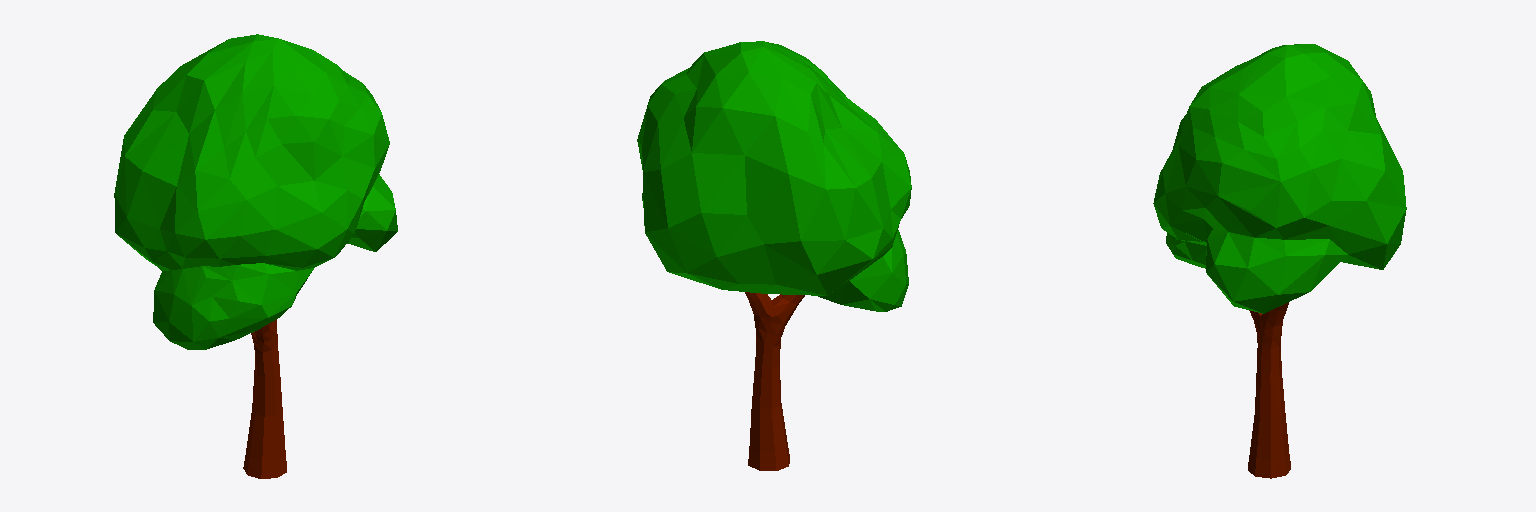
3 views of the same model, side by side, from view 1: azimuth 30°, elevation 25°; view 2: azimuth 150°, elevation 25°; view 3: azimuth 270°, elevation 25° (orthographic).
Parts seen in each view (by area): view 1: tree3_Icosphere.005; view 2: tree3_Icosphere.005; view 3: tree3_Icosphere.005.
Boxes of the visible parts, x1=… form: tree3_Icosphere.005: x1=114, y1=34, x2=397, y2=478; tree3_Icosphere.005: x1=637, y1=41, x2=911, y2=470; tree3_Icosphere.005: x1=1153, y1=44, x2=1406, y2=478.
Size of the model in its own units: 0.128 by 0.21 by 0.1141.
Materials: 1 (1 with a texture image).